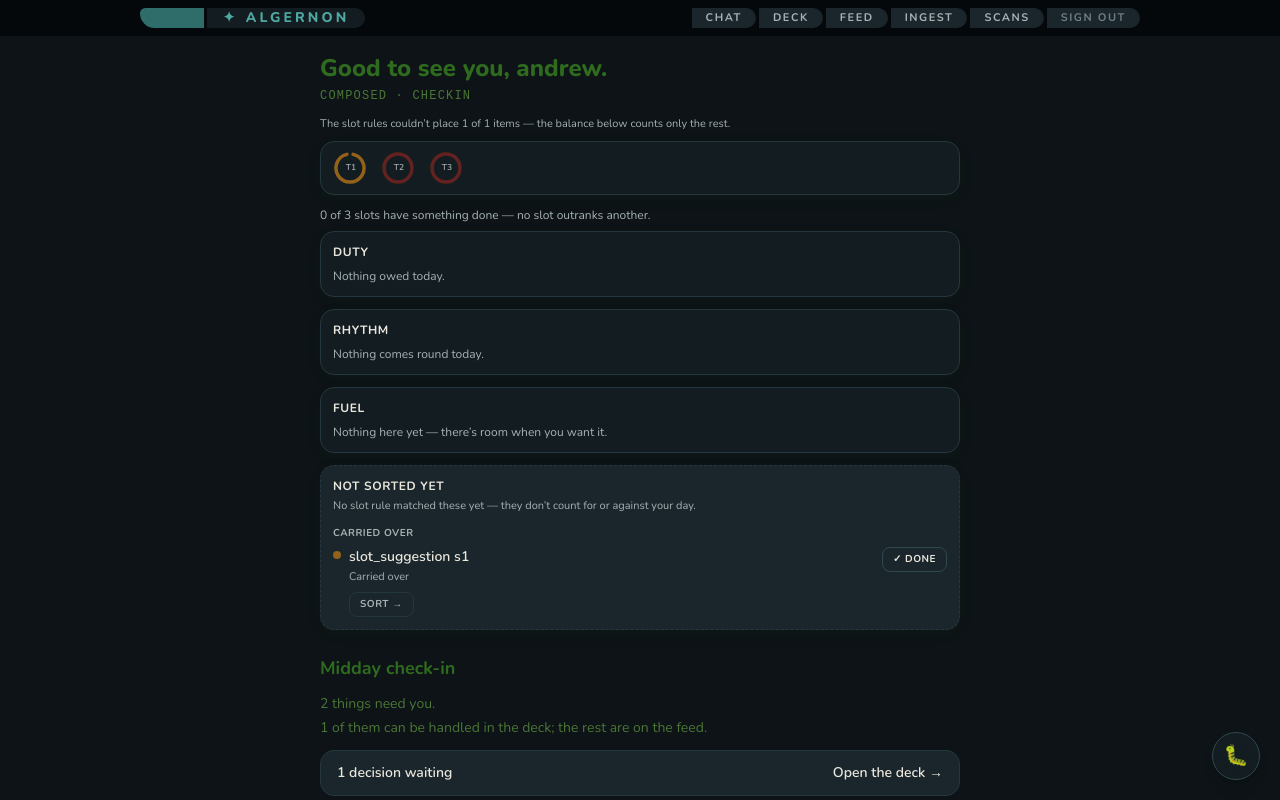
it: HomePage composer — a rings completion moves needs-you in the SAME render › completing a slot in the rings decrements the needs-you count without a refetch
Expected: the text with test id "composer-needs-you" shows "2 things need you", left=320, top=694, right=435, bottom=712
Click the button with test id "ring-1": click(351, 168) left=333, top=150, right=369, bottom=186
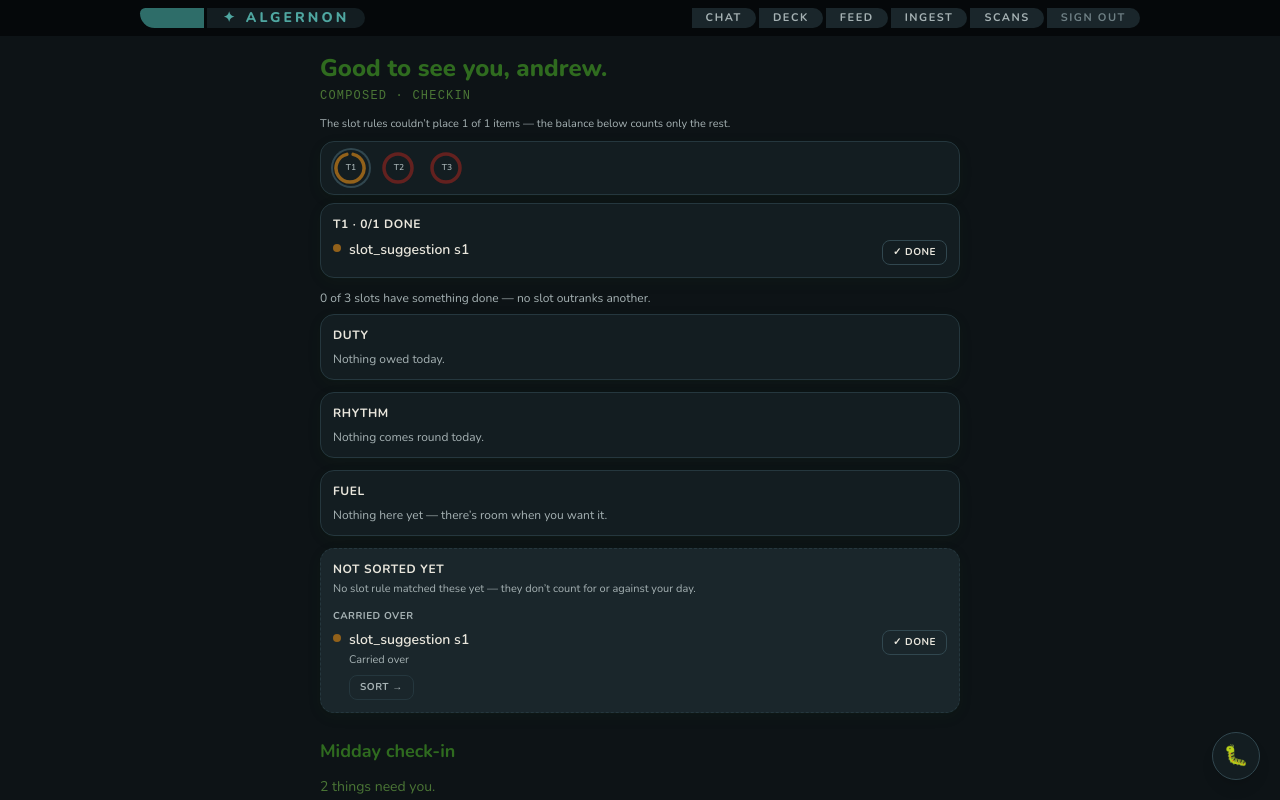
Click the button with test id "ring-complete": click(914, 252) left=882, top=240, right=947, bottom=264
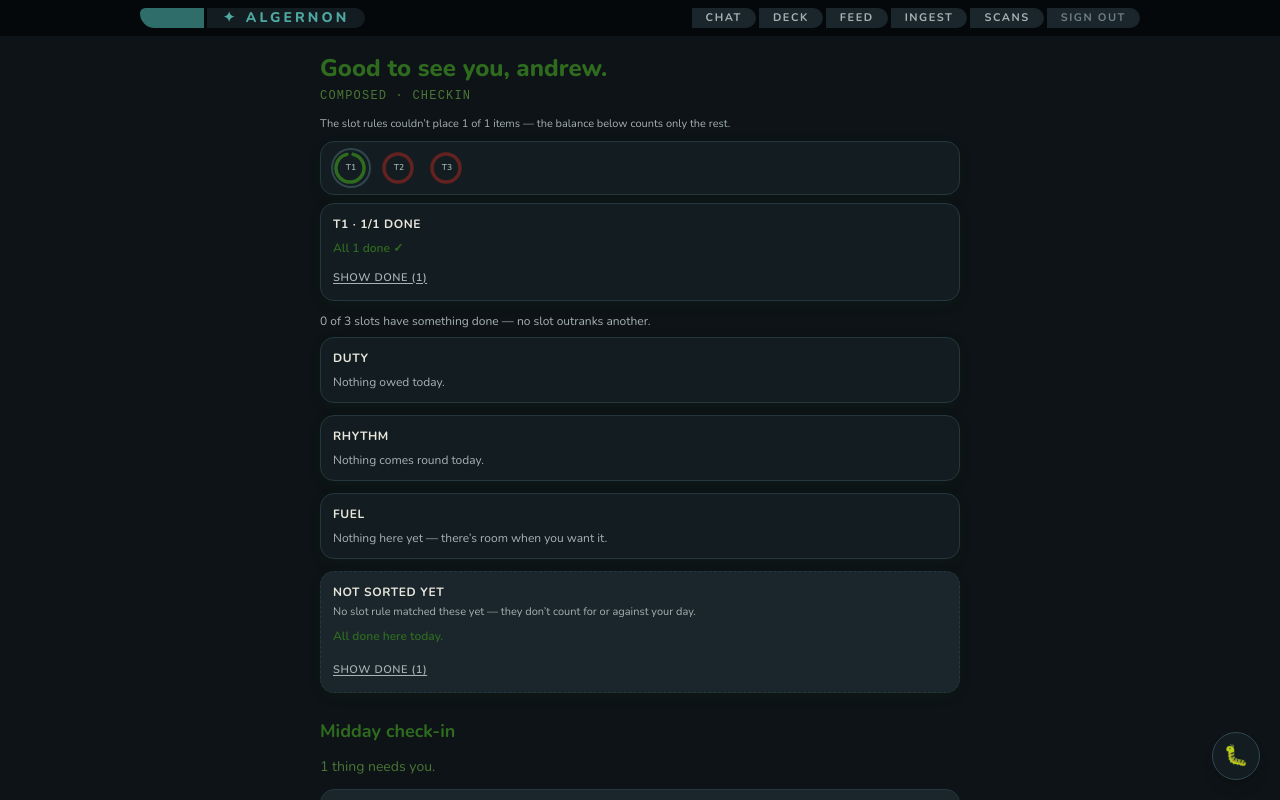
Expected: the text with test id "composer-needs-you" shows "1 thing needs you", left=320, top=757, right=435, bottom=776
